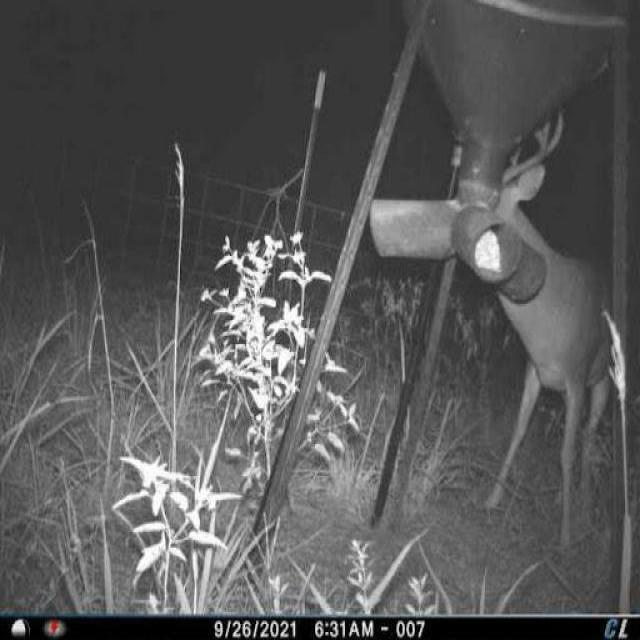deer: (408, 109, 624, 563)
